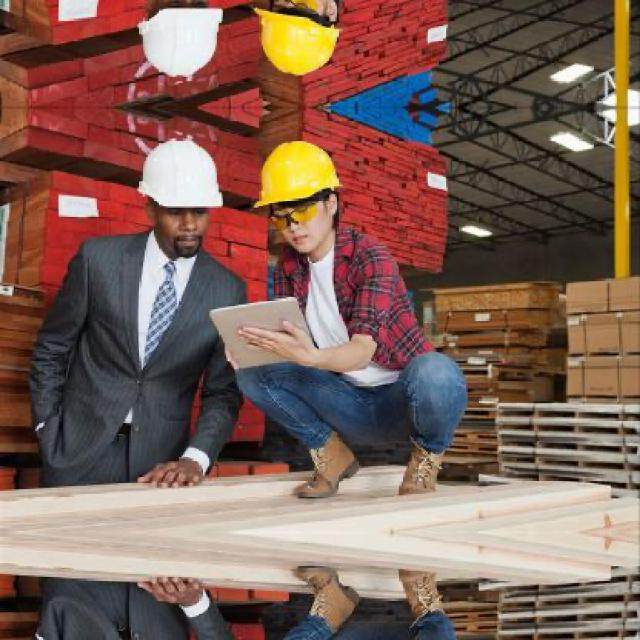helmet: (263, 134, 359, 277), (130, 126, 228, 263), (131, 0, 229, 88), (262, 0, 358, 80)
